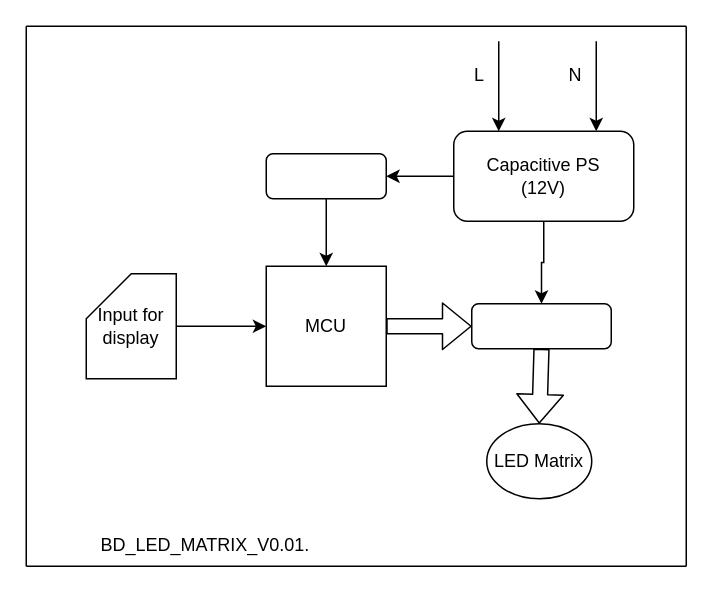
The diagram is 714 pixels wide and 594 high, and some of its shapes have lost their labels. Each missing label, with the box of its shape:
12V to 5V DC: (265, 152, 386, 199)
Driver circuit: (470, 302, 611, 349)
